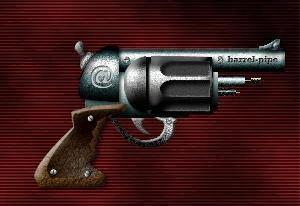gun: (2, 4, 294, 202)
